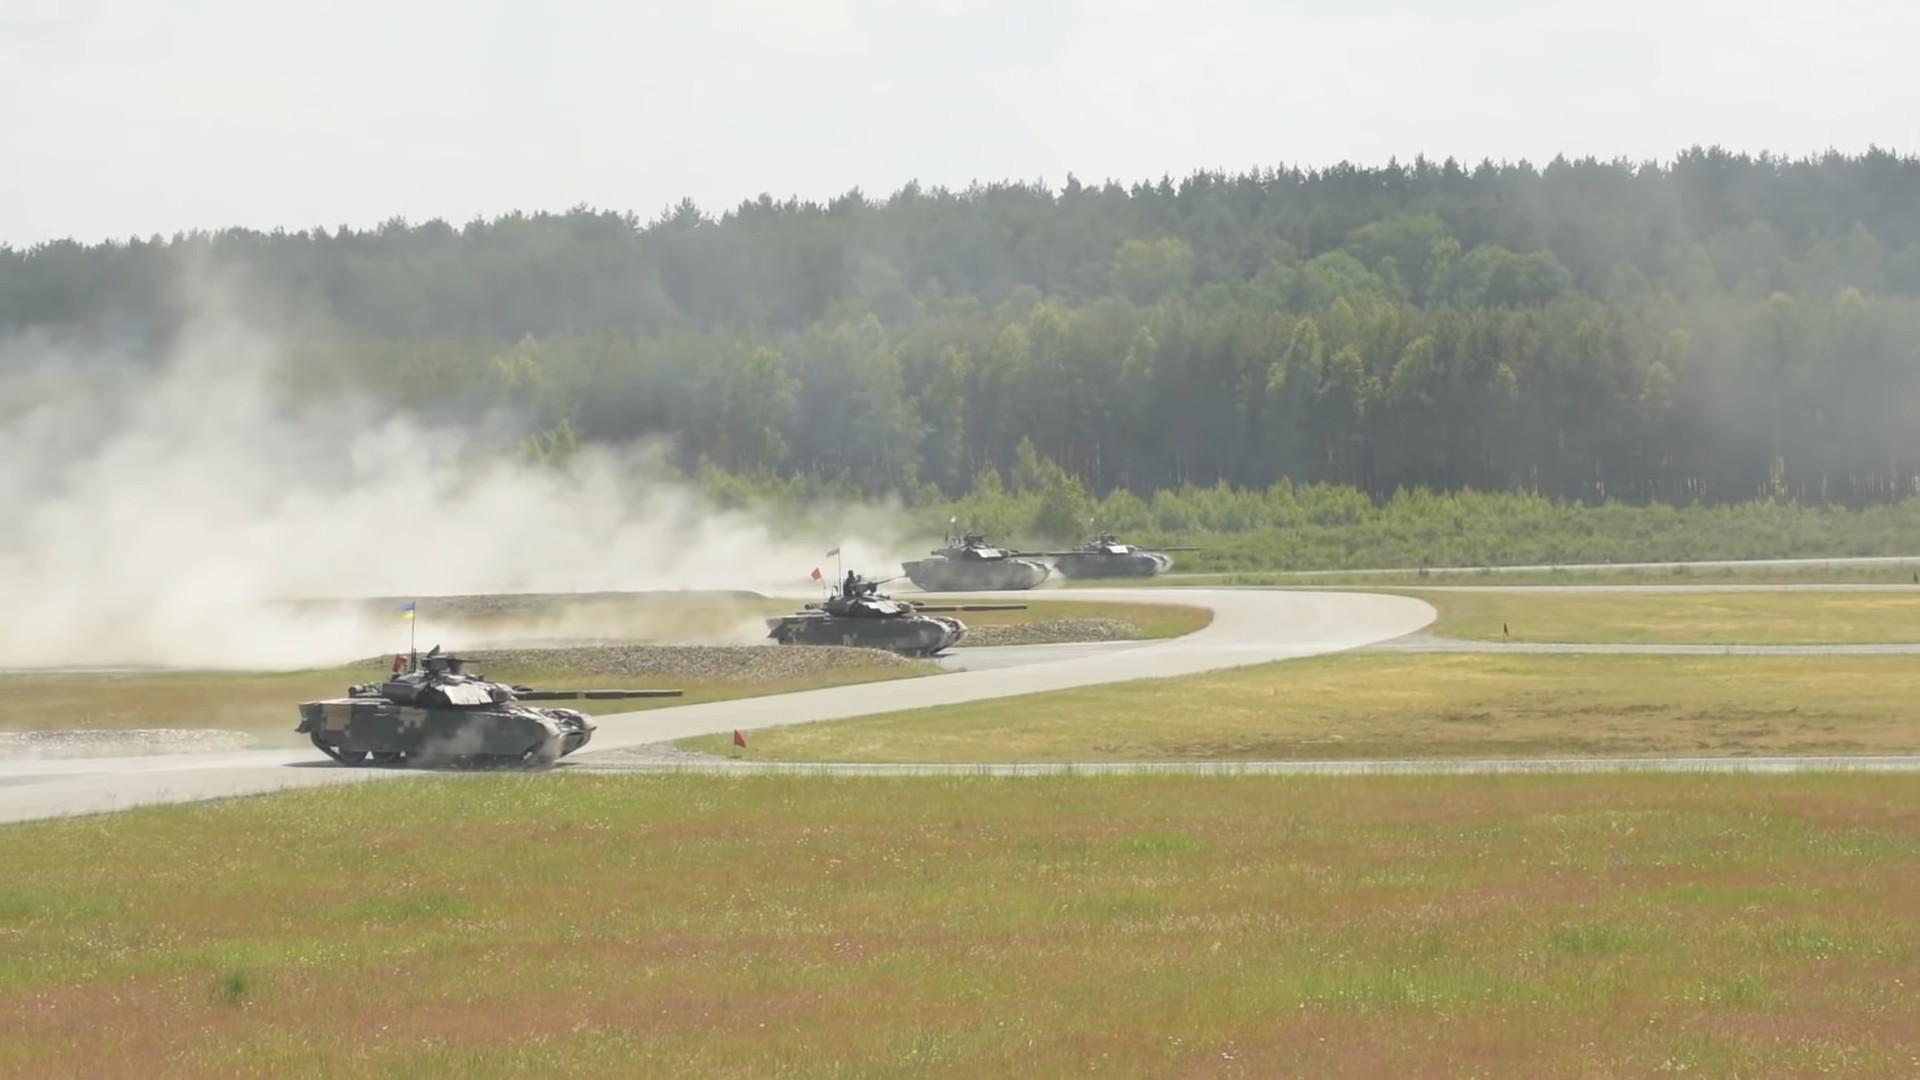tank: (294, 655, 683, 766), (765, 583, 1027, 654), (902, 535, 1096, 592), (1055, 537, 1201, 579)
